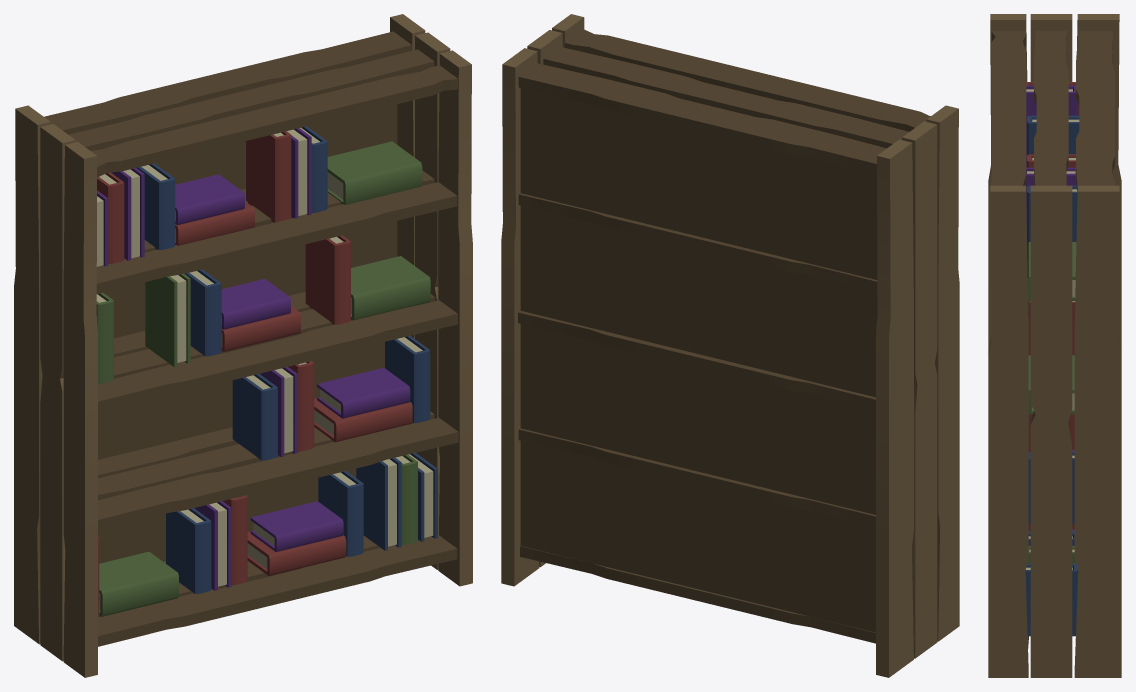
The model's file is Bookcase_Full.glb.
3 renders of one model, left to right at view 1: azimuth 30°, elevation 25°; view 2: azimuth 150°, elevation 25°; view 3: azimuth 270°, elevation 25°, orthographic. The views are drawn at different scales.
Parts seen in each view (by area): view 1: Bookcase_Full; view 2: Bookcase_Full; view 3: Bookcase_Full.
Part boxes in pixels (<box>): Bookcase_Full: <box>14,14,472,677</box>; Bookcase_Full: <box>501,14,959,677</box>; Bookcase_Full: <box>988,14,1121,677</box>.
Size of the model in its own units: 2.08 by 2.65 by 0.6582.
